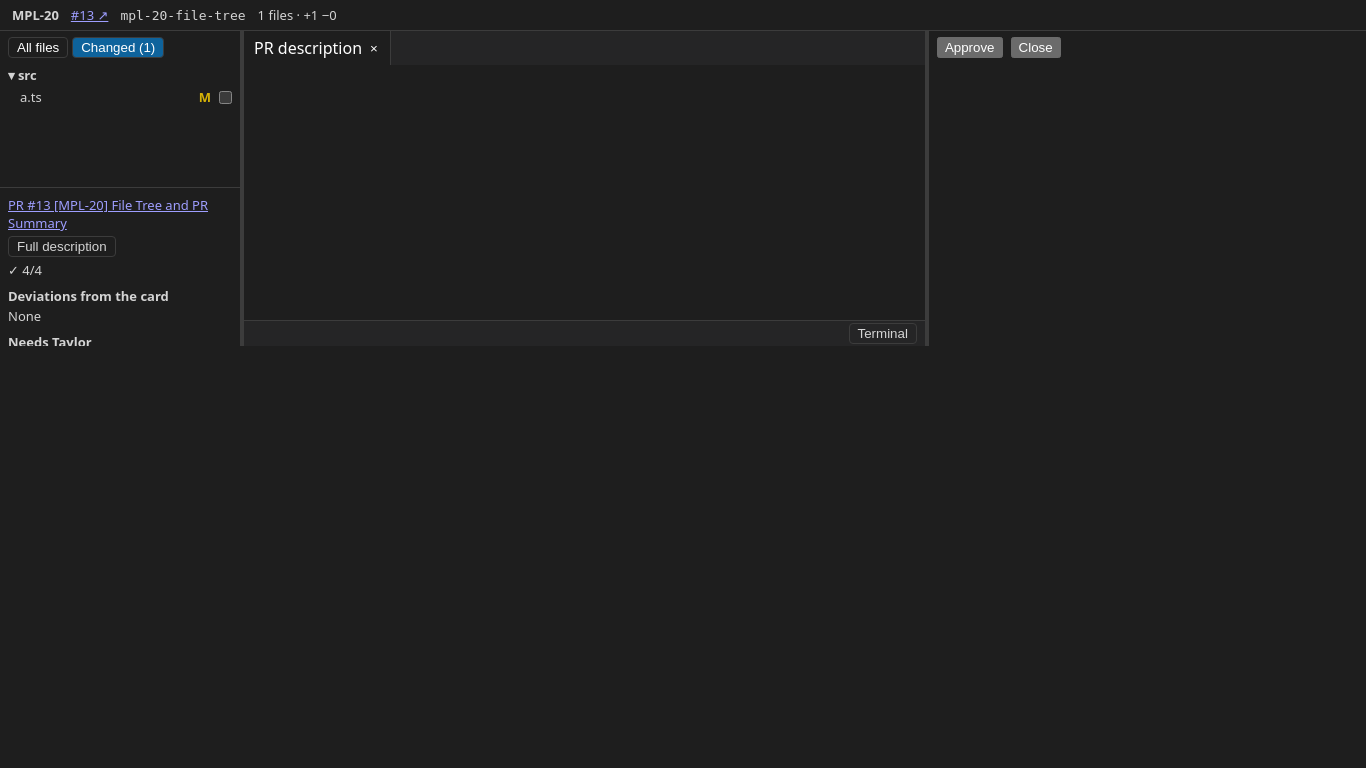
it: CardTab › the unviewed files dialog: Approve anyway approves
expect the checkbox named "Viewed src/a.ts" is shown: met, box [219,90,232,104]
Click the button "Approve". click: (970, 48)
box: [937,37,1003,58]
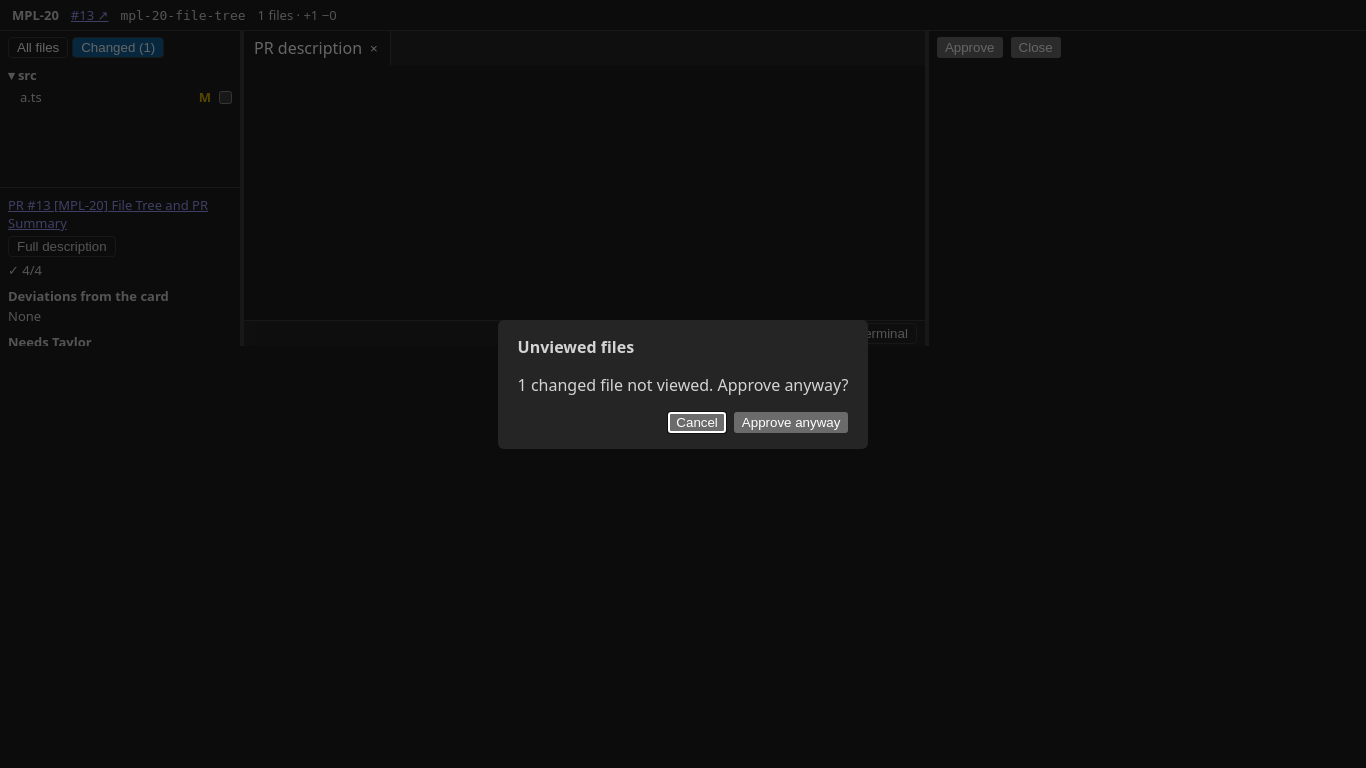
Click the button "Approve anyway". click: (791, 422)
box: [734,412,848,432]
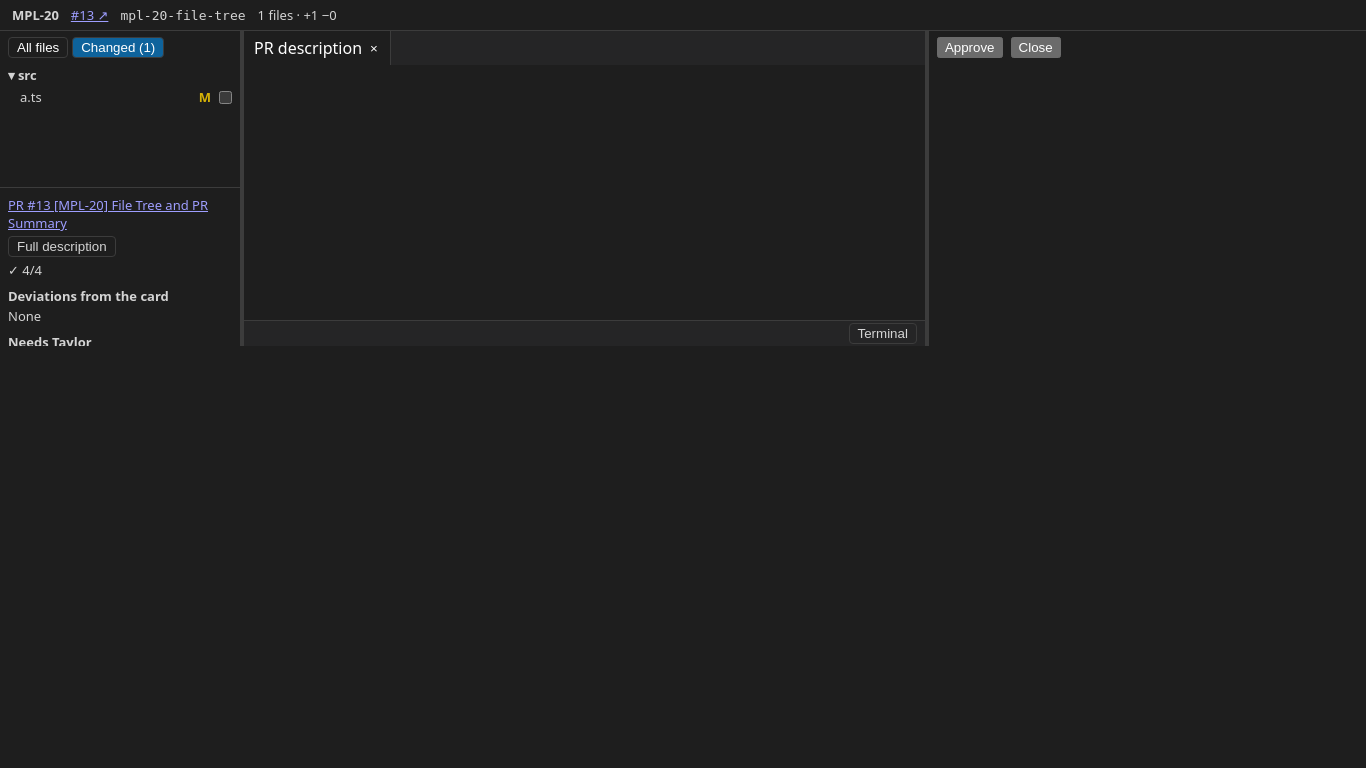
expect the dialog is gone: met
